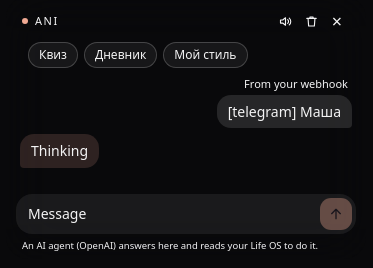
Test: AniChat › takes a message while a webhook turn is open, and does not speak its reply
Check: the text "[telegram] Маша" is shown, box [217, 94, 352, 128]
Type "Привет" into the text box named "Message to Ani".
click(167, 214); type("Привет")  # box [20, 198, 314, 230]
Wait 1000 ms
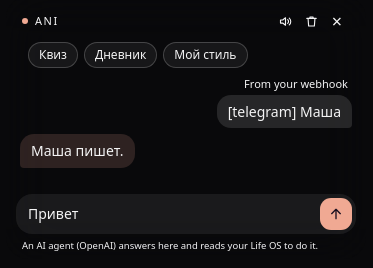
Check: the button named "send" is enabled, box [320, 198, 352, 230]
Check: the text "Маша пишет." is shown, box [20, 134, 134, 168]
